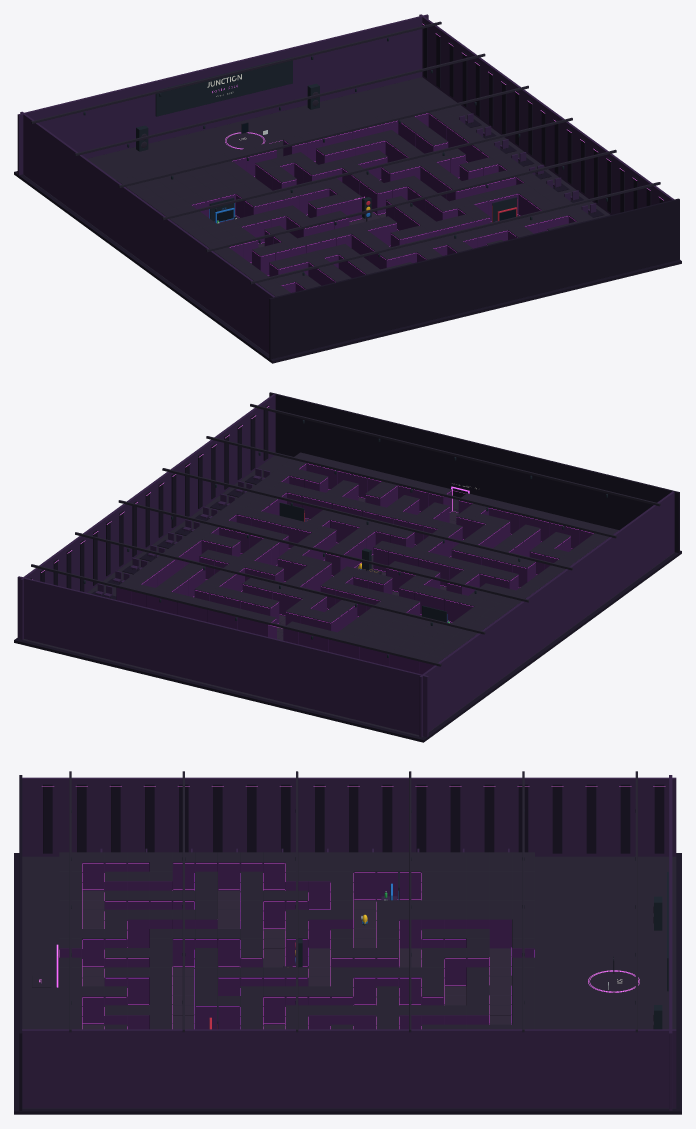
Rendered from junction-finale.glb.
3 views of the same model, one above another, from view 1: azimuth 30°, elevation 25°; view 2: azimuth 150°, elevation 25°; view 3: azimuth 270°, elevation 25° (orthographic). The views are drawn at different scales.
Visible parts, largest first — view 1: Maze caps / Graphite.001, Rear wall / Walnut.001, Side acoustic walls / Oak.001, Maze walls / Maze.001, Back wall / Oak.001, Hall floor / Graphite.001, Roof trusses / Graphite.001, Acoustic slats / Walnut.001, Hall foundation / Walnut.001, Stage screen / Ink.001, Violet wall crowns / Violet edge.001, Auditorium seats / Oak.001 (+1 smaller); view 2: Maze caps / Graphite.001, Maze walls / Maze.001, Side acoustic walls / Oak.001, Back wall / Oak.001, Rear wall / Walnut.001, Roof trusses / Graphite.001, Acoustic slats / Walnut.001, Hall foundation / Walnut.001, Hall floor / Graphite.001, Auditorium seats / Oak.001, Violet wall crowns / Violet edge.001, Seating risers / Walnut.001; view 3: Side acoustic walls / Oak.001, Maze caps / Graphite.001, Hall floor / Graphite.001, Maze walls / Maze.001, Acoustic slats / Walnut.001, Maze paths / Obsidian floor.001, Hall foundation / Walnut.001, Roof trusses / Graphite.001, Violet wall crowns / Violet edge.001, Back wall / Oak.001, Rear wall / Walnut.001, Low violet guides / Violet edge.001 (+1 smaller).
Boxes of the visible parts, box(x1,y1,x2,y2) form: Maze caps / Graphite.001: box(116, 102, 593, 296); Rear wall / Walnut.001: box(269, 198, 679, 359); Side acoustic walls / Oak.001: box(20, 14, 674, 353); Maze walls / Maze.001: box(119, 113, 576, 296); Back wall / Oak.001: box(17, 14, 428, 175); Hall floor / Graphite.001: box(23, 77, 609, 354); Roof trusses / Graphite.001: box(31, 21, 660, 284); Acoustic slats / Walnut.001: box(423, 22, 664, 213); Hall foundation / Walnut.001: box(14, 171, 681, 363); Stage screen / Ink.001: box(155, 57, 292, 116); Violet wall crowns / Violet edge.001: box(192, 113, 574, 288); Auditorium seats / Oak.001: box(459, 113, 596, 213); Maze caps / Graphite.001: box(119, 452, 618, 662); Maze walls / Maze.001: box(116, 463, 616, 674); Side acoustic walls / Oak.001: box(20, 394, 674, 737); Back wall / Oak.001: box(17, 576, 428, 737); Rear wall / Walnut.001: box(269, 392, 679, 552); Roof trusses / Graphite.001: box(31, 404, 660, 666); Acoustic slats / Walnut.001: box(30, 405, 268, 591); Hall foundation / Walnut.001: box(14, 550, 681, 742); Hall floor / Graphite.001: box(23, 455, 674, 737); Auditorium seats / Oak.001: box(95, 468, 270, 597); Violet wall crowns / Violet edge.001: box(142, 463, 593, 628); Seating risers / Walnut.001: box(91, 476, 262, 599); Side acoustic walls / Oak.001: box(22, 777, 676, 1108); Maze caps / Graphite.001: box(59, 852, 534, 1029); Hall floor / Graphite.001: box(22, 856, 676, 1108); Maze walls / Maze.001: box(59, 862, 534, 1029); Acoustic slats / Walnut.001: box(43, 784, 664, 853); Maze paths / Obsidian floor.001: box(82, 890, 511, 1029); Hall foundation / Walnut.001: box(14, 853, 681, 1114); Roof trusses / Graphite.001: box(69, 771, 637, 1032); Violet wall crowns / Violet edge.001: box(59, 863, 534, 1028); Back wall / Oak.001: box(669, 775, 672, 1110); Rear wall / Walnut.001: box(19, 775, 22, 1110); Low violet guides / Violet edge.001: box(82, 889, 511, 1028).
Bounding box in the file's own units: 54 × 8.27 × 59.
